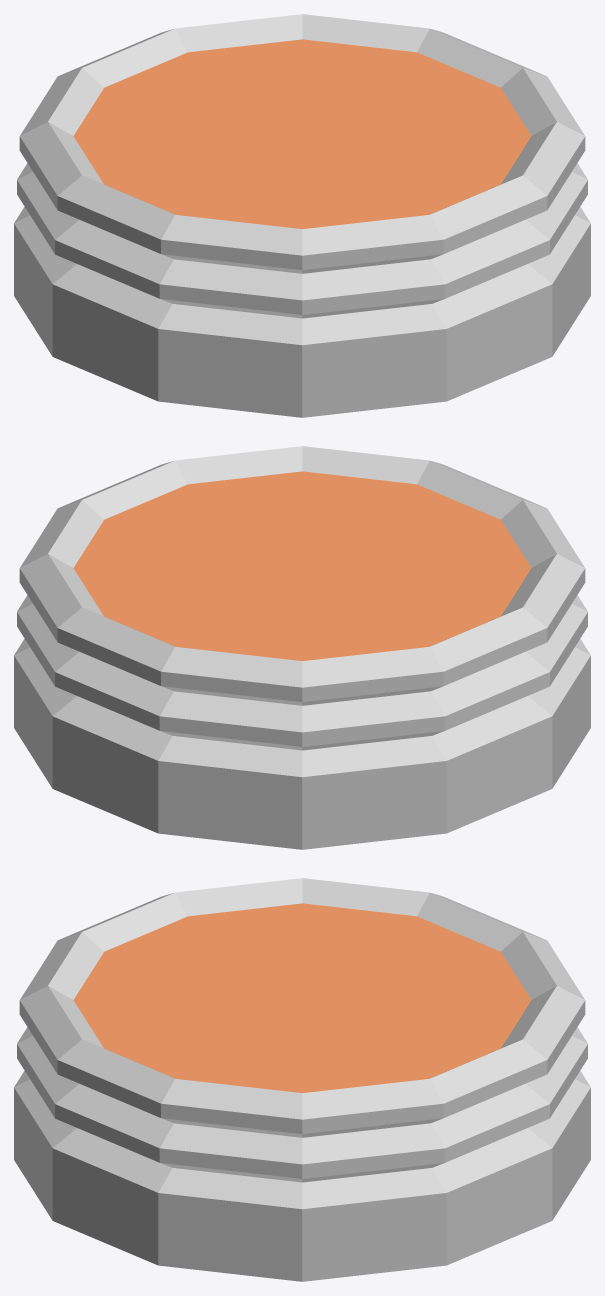
Rendered from button1.fbx.
3 renders of one model, top to bottom at view 1: azimuth 30°, elevation 25°; view 2: azimuth 150°, elevation 25°; view 3: azimuth 270°, elevation 25°, orthographic.
Visible parts, largest first — view 1: mesh876093174; view 2: mesh876093174; view 3: mesh876093174.
Part boxes in pixels (left/top/right/bottom): mesh876093174: left=14, top=14, right=590, bottom=417; mesh876093174: left=14, top=446, right=590, bottom=849; mesh876093174: left=14, top=878, right=590, bottom=1281.
Bounding box in the file's own units: 9 × 3 × 9.
